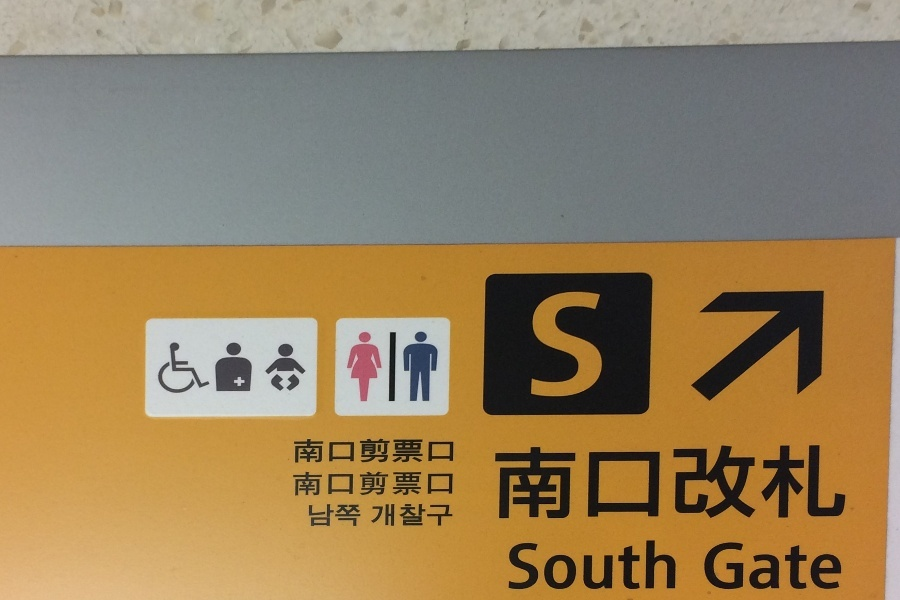text: (545, 292, 560, 400), (561, 292, 576, 400), (577, 292, 592, 400), (497, 447, 512, 520), (513, 447, 528, 520), (529, 447, 544, 520), (545, 447, 560, 520), (561, 447, 576, 520), (577, 447, 592, 520), (593, 447, 608, 520), (609, 447, 624, 520), (625, 447, 640, 520), (641, 447, 656, 520), (657, 447, 672, 520), (673, 447, 688, 520), (689, 447, 704, 520), (705, 447, 720, 520), (721, 447, 736, 520), (737, 447, 752, 520), (753, 447, 768, 520), (769, 447, 784, 520), (785, 447, 800, 520), (801, 447, 816, 520), (817, 447, 832, 520), (534, 292, 544, 400), (593, 292, 603, 400), (833, 447, 847, 520), (513, 541, 528, 591), (529, 541, 544, 591), (545, 541, 560, 591), (561, 541, 576, 591), (577, 541, 592, 591), (593, 541, 608, 591), (609, 541, 624, 591), (625, 541, 640, 591), (641, 541, 656, 591), (657, 541, 672, 591), (721, 544, 736, 591), (737, 544, 752, 591), (753, 544, 768, 591), (769, 544, 784, 591), (785, 544, 800, 591), (801, 544, 816, 591), (817, 544, 832, 591), (706, 544, 720, 591), (833, 544, 842, 591), (305, 438, 320, 463), (321, 438, 336, 463), (337, 438, 352, 463), (353, 438, 368, 463), (369, 438, 384, 463), (385, 438, 400, 463), (401, 438, 416, 463), (417, 438, 432, 463), (433, 438, 448, 463), (305, 472, 320, 496), (321, 472, 336, 496), (337, 472, 352, 496), (353, 472, 368, 496), (369, 472, 384, 496), (385, 472, 400, 496), (401, 472, 416, 496), (417, 472, 432, 496), (433, 472, 448, 496), (321, 504, 336, 526), (337, 504, 352, 526), (385, 505, 400, 527), (401, 505, 416, 527), (417, 505, 432, 527), (433, 505, 448, 527), (293, 472, 304, 496), (309, 504, 320, 526), (373, 505, 384, 527), (295, 438, 304, 463), (673, 541, 677, 591), (353, 504, 361, 526), (449, 438, 454, 463), (510, 541, 512, 591), (449, 472, 453, 496), (449, 505, 453, 527)
